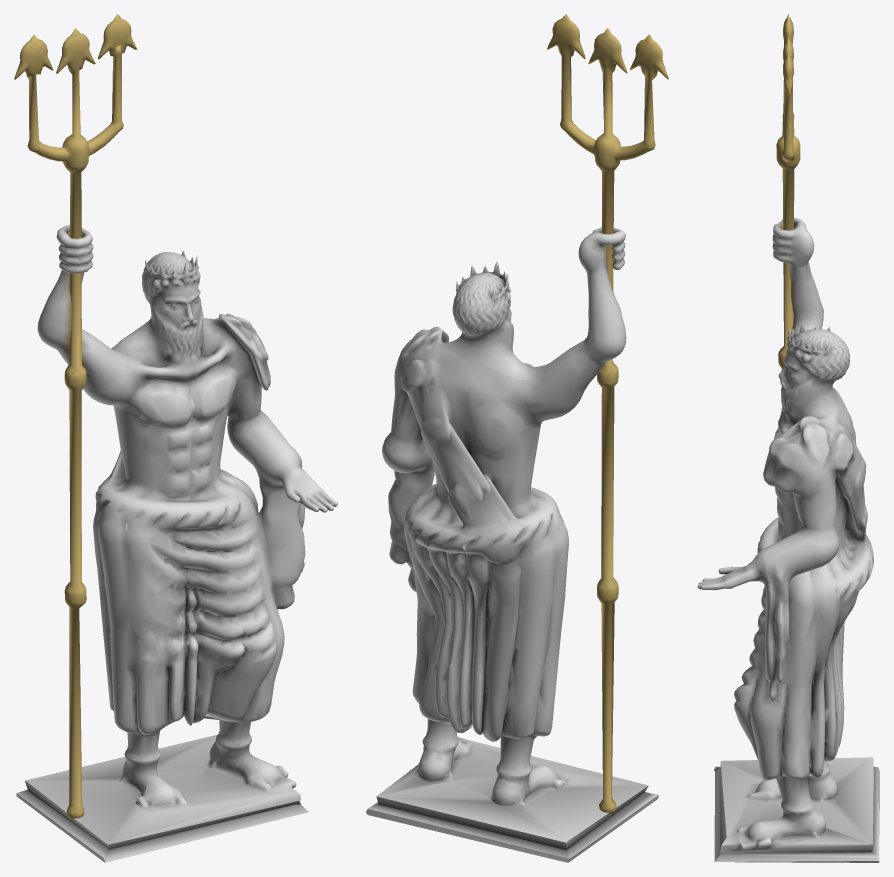
The model's file is poseidon_standing.glb.
3 views of the same model, side by side, from view 1: azimuth 30°, elevation 25°; view 2: azimuth 150°, elevation 25°; view 3: azimuth 270°, elevation 25° (orthographic). The views are drawn at different scales.
Visible parts, largest first — view 1: poseidon_standing; view 2: poseidon_standing; view 3: poseidon_standing.
Boxes of the visible parts, bbox=[...] form: poseidon_standing: bbox=[14, 14, 337, 862]; poseidon_standing: bbox=[366, 14, 668, 862]; poseidon_standing: bbox=[697, 14, 879, 862].
Bounding box in the file's own units: 5.59 × 15.06 × 3.34.
